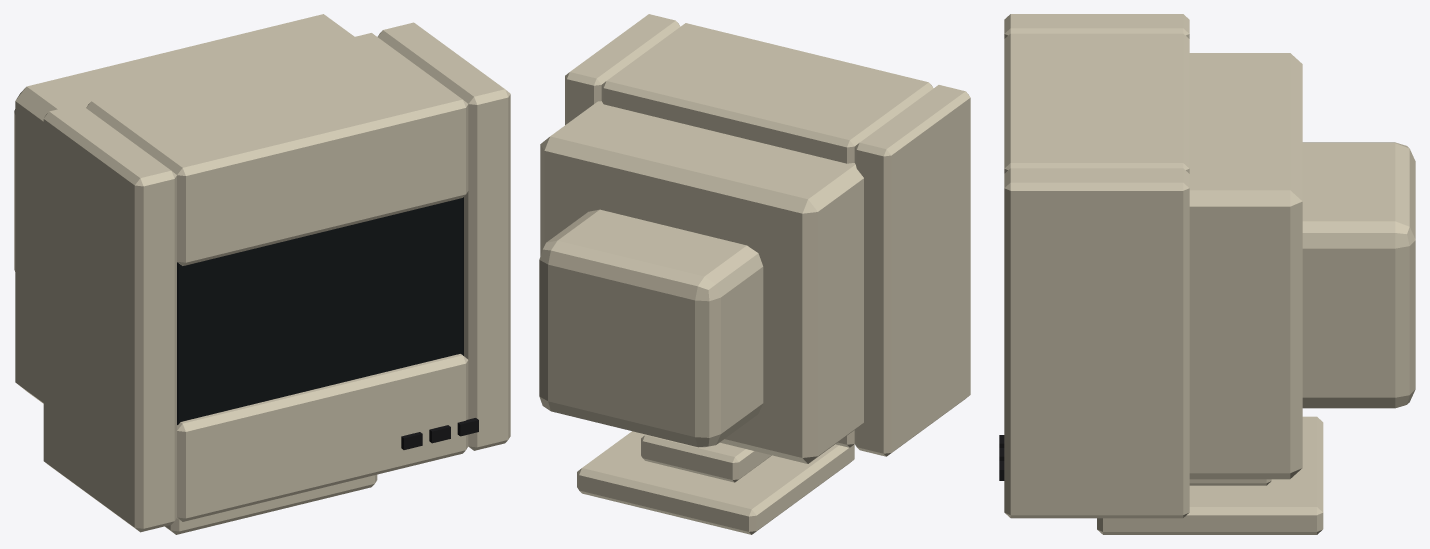
The model's file is MonitorCRT.fbx.
The picture shows the model from 3 angles, left to right: view 1: azimuth 30°, elevation 25°; view 2: azimuth 150°, elevation 25°; view 3: azimuth 270°, elevation 25°; orthographic projection. The views are drawn at different scales.
Visible parts, largest first — view 1: MonitorCRT; view 2: MonitorCRT; view 3: MonitorCRT.
Part boxes in pixels (x1,y1,x2,y2): MonitorCRT: [14, 14, 510, 534]; MonitorCRT: [539, 14, 970, 534]; MonitorCRT: [999, 14, 1415, 534].
Bounding box in the file's own units: 0.4 × 0.42 × 0.405.
